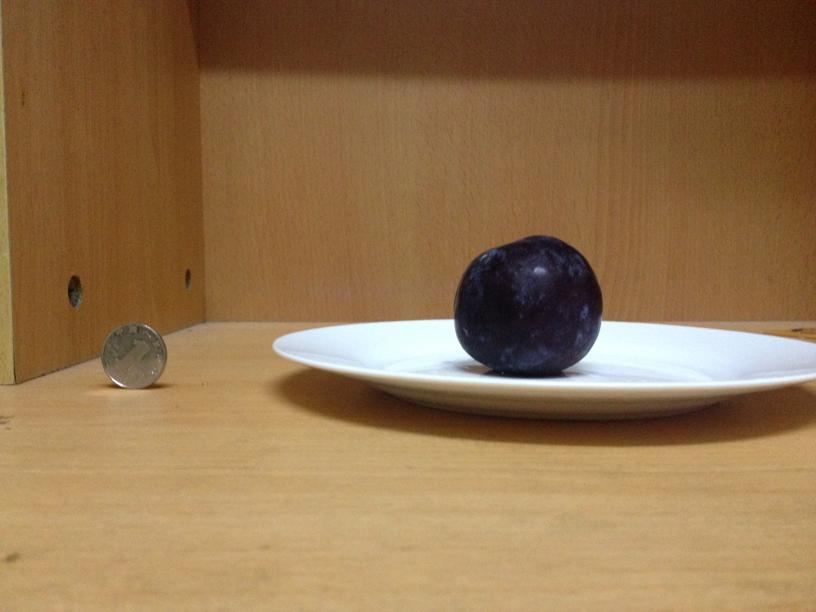coin: (98, 327, 167, 392)
plum: (447, 230, 604, 377)
